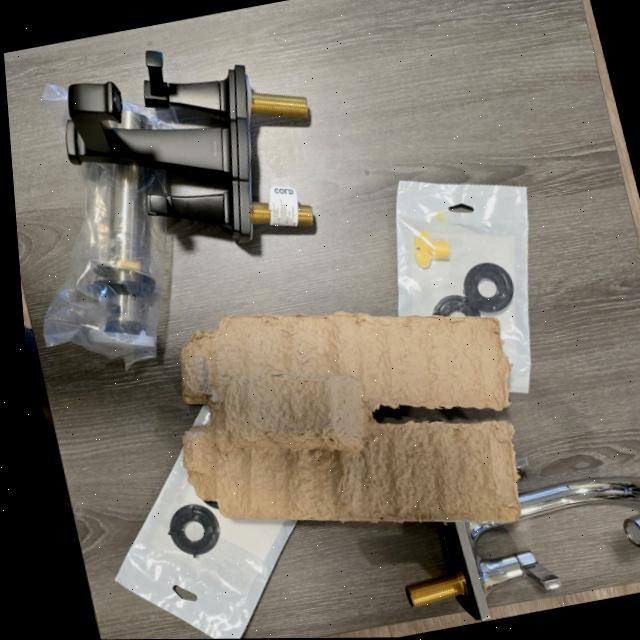10o: (404, 520, 559, 619), (517, 475, 640, 518)
11o: (42, 158, 168, 366), (117, 99, 178, 128), (41, 83, 66, 99)
12o: (395, 180, 529, 391)
13o: (113, 449, 294, 639), (186, 402, 210, 430)
9: (64, 50, 312, 241)
